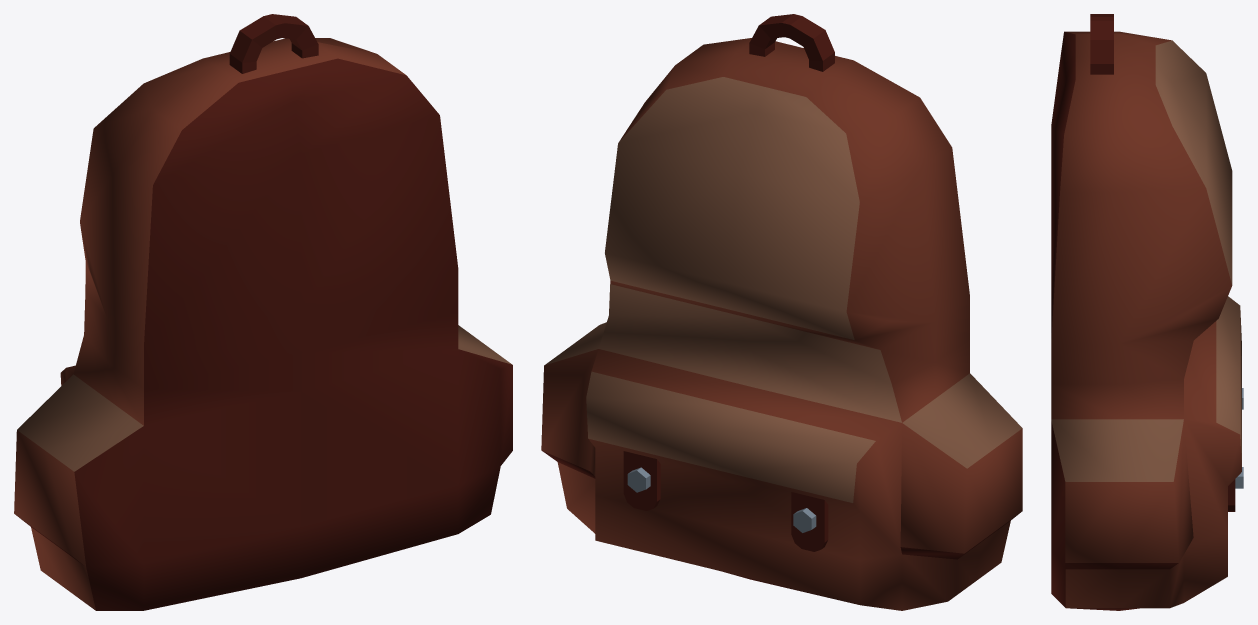
The model's file is fantasyBackpack.fbx.
3 renders of one model, left to right at view 1: azimuth 30°, elevation 25°; view 2: azimuth 150°, elevation 25°; view 3: azimuth 270°, elevation 25°, orthographic. The views are drawn at different scales.
Parts seen in each view (by area): view 1: fantasyBackPack; view 2: fantasyBackPack; view 3: fantasyBackPack.
Boxes of the visible parts, x1=… form: fantasyBackPack: x1=14, y1=14, x2=512, y2=610; fantasyBackPack: x1=541, y1=14, x2=1022, y2=610; fantasyBackPack: x1=1051, y1=14, x2=1243, y2=610.
Bounding box in the file's own units: 95.88 × 116 × 38.7.
